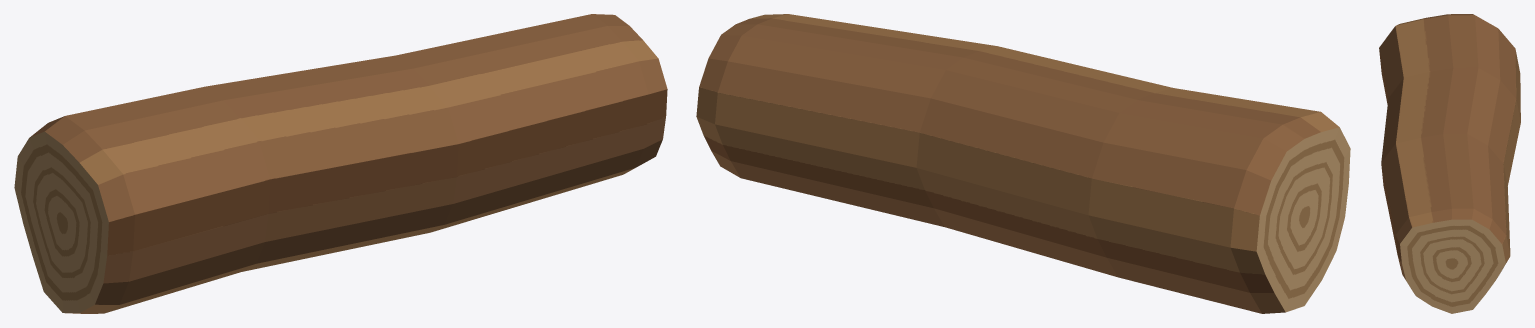
File: asset.glb
3 renders of one model, left to right at view 1: azimuth 30°, elevation 25°; view 2: azimuth 150°, elevation 25°; view 3: azimuth 270°, elevation 25°, orthographic. The views are drawn at different scales.
Parts seen in each view (by area): view 1: Log; view 2: Log; view 3: Log.
Part boxes in pixels (x1,y1,x2,y2): Log: (14, 14, 667, 313); Log: (696, 14, 1350, 313); Log: (1379, 14, 1520, 313).
Bounding box in the file's own units: 3.12 × 0.9616 × 0.9819.
Materials: 1 (1 with a texture image).
